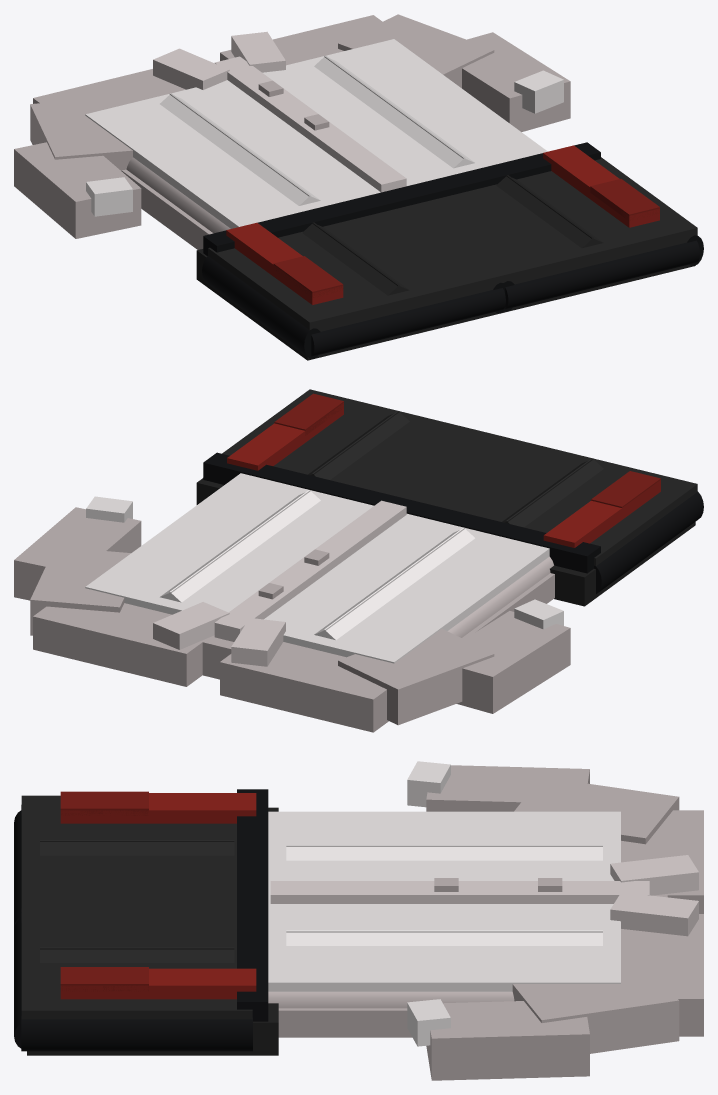
File: CMU3DRMCMarineUniformDressGeneralWorldCloud.glb
The picture shows the model from 3 angles, top to bottom: view 1: azimuth 30°, elevation 25°; view 2: azimuth 150°, elevation 25°; view 3: azimuth 270°, elevation 25°; orthographic projection. The views are drawn at different scales.
Parts seen in each view (by area): view 1: left white dress shirt front continuous cloth panel, left black folded dress trousers continuous cloth panel, left short white sleeve, dress trousers horizontal waist seam, right short white sleeve, white dress shirt center placket, left dress shoulder attachment, left black folded dress trousers lower folded edge, right black folded dress trousers lower folded edge, right dress shoulder attachment, left black folded dress trousers left turned edge, left broad red Blood Stripe (+18 smaller); view 2: left white dress shirt front continuous cloth panel, left black folded dress trousers continuous cloth panel, dress left shoulder yoke, dress right shoulder yoke, left short white sleeve, left dress shoulder attachment, dress trousers horizontal waist seam, white dress shirt center placket, right short white sleeve, right dress shoulder attachment, left black folded dress trousers left turned edge, right white dress shirt front left shallow folded fabric (+17 smaller); view 3: left white dress shirt front continuous cloth panel, left black folded dress trousers continuous cloth panel, right short white sleeve, right dress shoulder attachment, white dress shirt center placket, right black folded dress trousers right turned edge, dress trousers horizontal waist seam, left dress shoulder attachment, right white dress shirt front right shallow folded fabric, dress right shoulder yoke, left short white sleeve, left white dress shirt front right shallow folded fabric (+18 smaller).
Boxes of the visible parts, x1,y1,x2,y2 form: left white dress shirt front continuous cloth panel: (85,39,547,228); left black folded dress trousers continuous cloth panel: (208,157,697,331); left short white sleeve: (14,142,141,238); dress trousers horizontal waist seam: (203,142,600,255); right short white sleeve: (462,32,570,131); white dress shirt center placket: (215,56,406,192); left dress shoulder attachment: (30,96,132,170); left black folded dress trousers lower folded edge: (311,288,505,356); right black folded dress trousers lower folded edge: (505,240,699,308); right dress shoulder attachment: (338,14,494,88); left black folded dress trousers left turned edge: (202,256,320,358); left broad red Blood Stripe: (226,222,343,304); left white dress shirt front continuous cloth panel: (85,473,549,663); left black folded dress trousers continuous cloth panel: (222,389,697,565); dress left shoulder yoke: (220,642,388,732); dress right shoulder yoke: (33,603,202,686); left short white sleeve: (456,611,570,713); left dress shoulder attachment: (338,629,494,725); dress trousers horizontal waist seam: (203,452,600,573); white dress shirt center placket: (214,500,406,641); right short white sleeve: (14,507,141,600); right dress shoulder attachment: (30,546,130,635); left black folded dress trousers left turned edge: (594,491,703,594); right white dress shirt front left shallow folded fabric: (169,490,320,602); left white dress shirt front continuous cloth panel: (268,811,620,991); left black folded dress trousers continuous cloth panel: (21,795,252,1019); right short white sleeve: (426,1001,589,1080); right dress shoulder attachment: (512,959,679,1053); white dress shirt center placket: (270,881,649,903); right black folded dress trousers right turned edge: (21,1015,252,1051); dress trousers horizontal waist seam: (237,789,268,1021); left dress shoulder attachment: (514,777,679,844); right white dress shirt front right shallow folded fabric: (286,930,602,945); dress right shoulder yoke: (621,914,703,1036); left short white sleeve: (426,765,589,811); left white dress shirt front right shallow folded fabric: (286,845,602,860).
Bounding box in the file's own units: 0.3905 × 0.044 × 0.4156.
